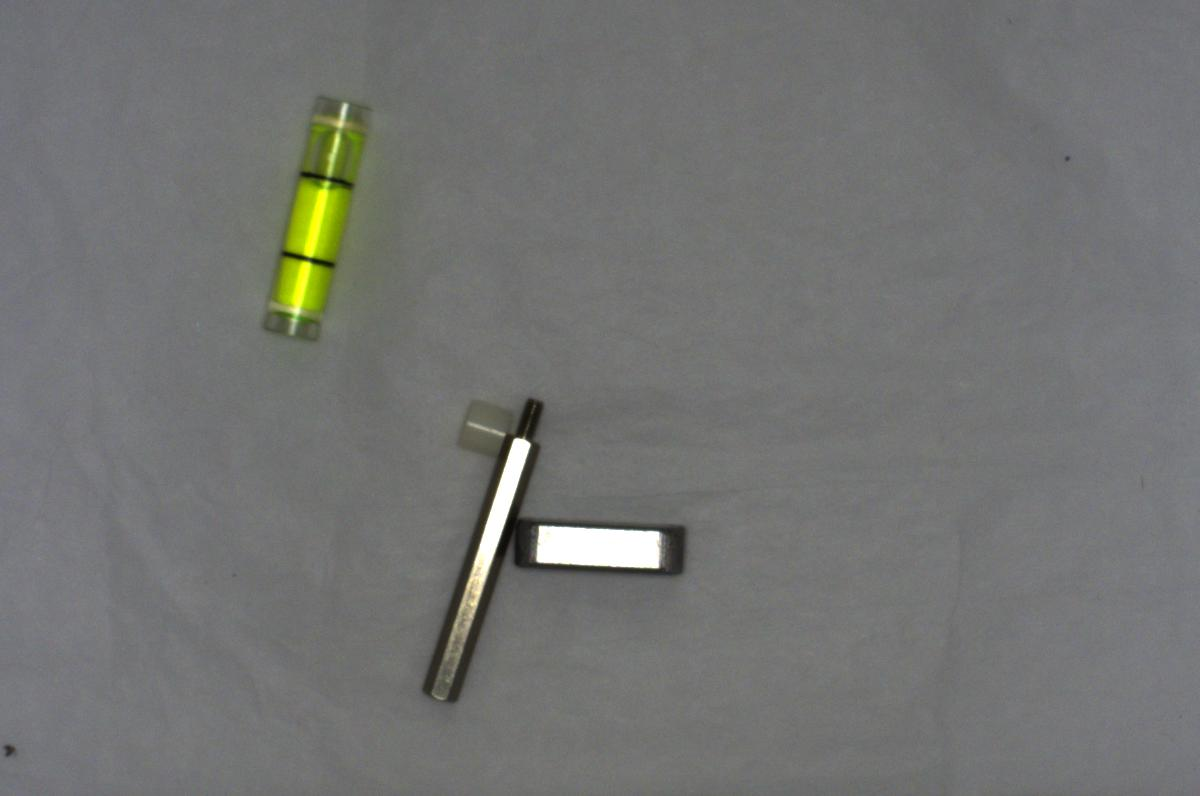Hexagonal steel column: (420, 387, 542, 712)
Horizontal bubble: (247, 93, 362, 341)
Keybar: (518, 507, 695, 583)
Plastic cushion pillar: (450, 393, 511, 455)
